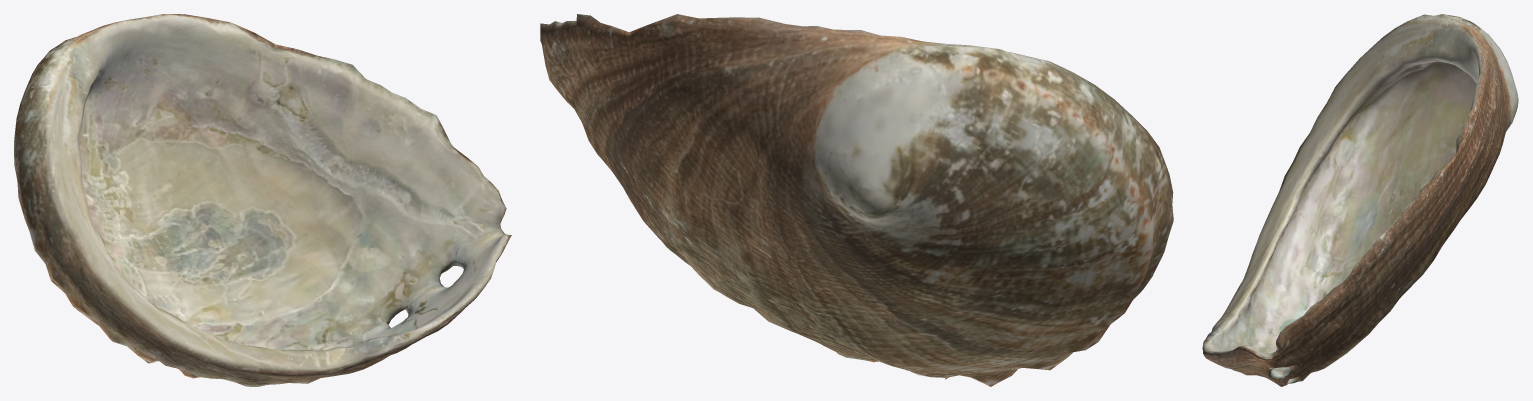
The model's file is abalone.glb.
3 renders of one model, left to right at view 1: azimuth 30°, elevation 25°; view 2: azimuth 150°, elevation 25°; view 3: azimuth 270°, elevation 25°, orthographic. The views are drawn at different scales.
Parts seen in each view (by area): view 1: IridescenceAbalone; view 2: IridescenceAbalone; view 3: IridescenceAbalone.
Boxes of the visible parts, box(x1,y1,x2,y2) form: IridescenceAbalone: box(14, 14, 511, 386); IridescenceAbalone: box(540, 14, 1173, 386); IridescenceAbalone: box(1202, 14, 1518, 386).
Size of the model in its own units: 0.2321 by 0.1556 by 0.1584.
Materials: 1 (1 with a texture image).
